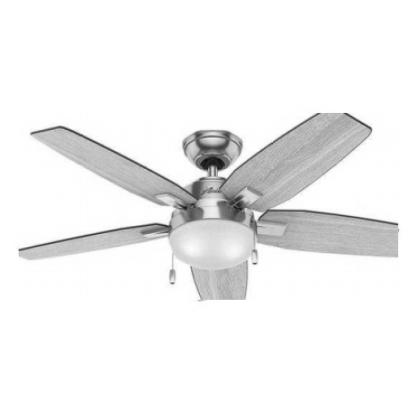ceiling-fan: (19, 113, 399, 301)
